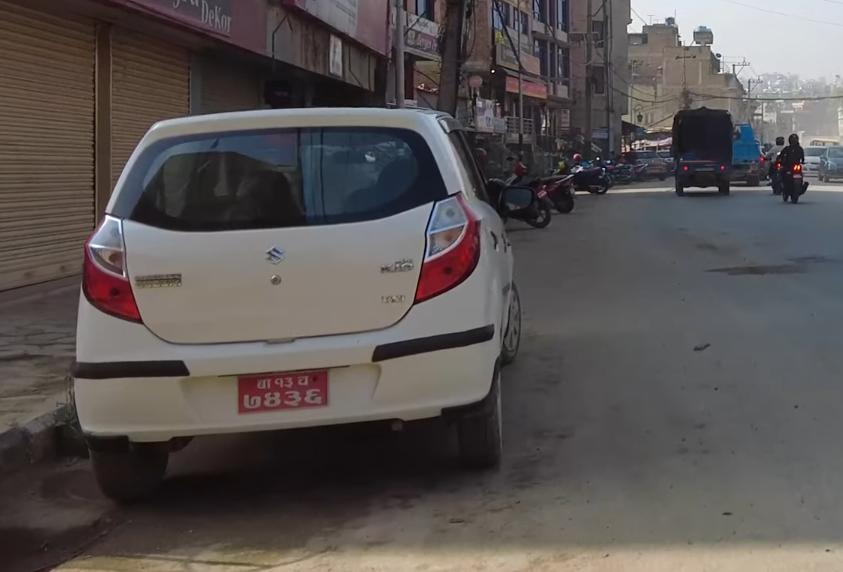SUV: (62, 103, 542, 511)
